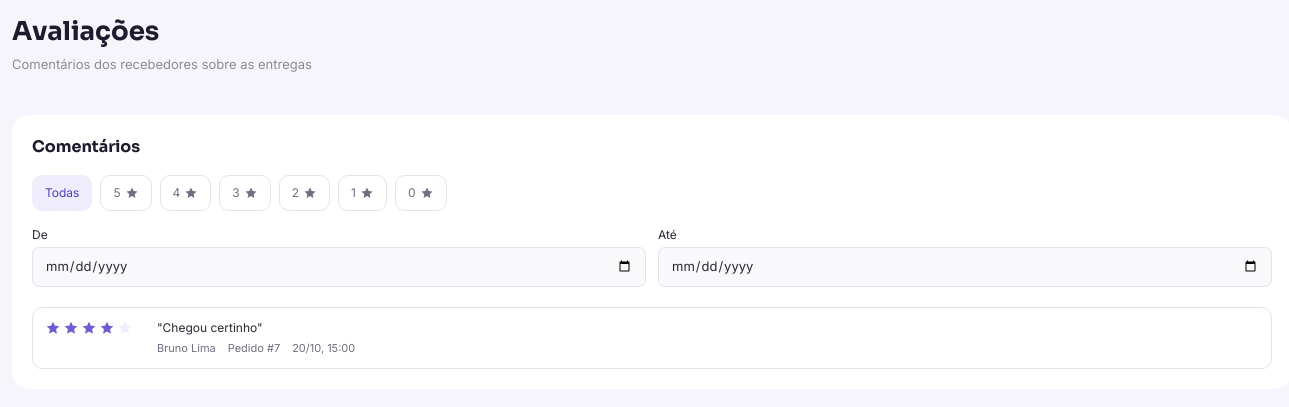
Test: PaginaAvaliacoes › não busca enquanto a data final vier antes da inicial
This screenshot has width=1289, height=407.
Expected: the text "Pedido #7" is shown, left=228, top=340, right=280, bottom=356
Type "2026-10-20" into the date field labelled "De" at (339, 266), box left=32, top=246, right=646, bottom=286
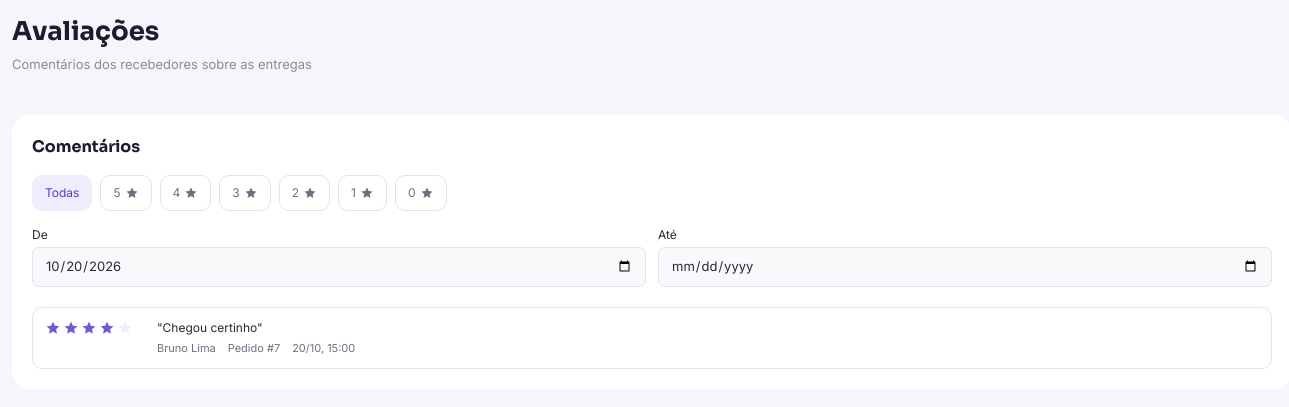
Type "2026-10-10" into the date field labelled "Até" at (965, 266), box left=658, top=246, right=1272, bottom=286
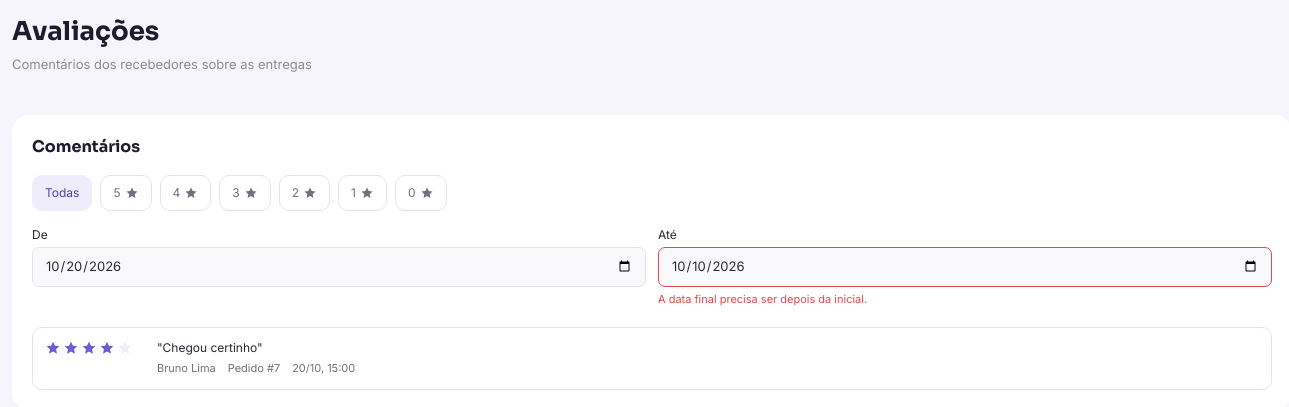
Now the text "A data final precisa ser depois da inicial." is shown, box left=658, top=292, right=867, bottom=306
